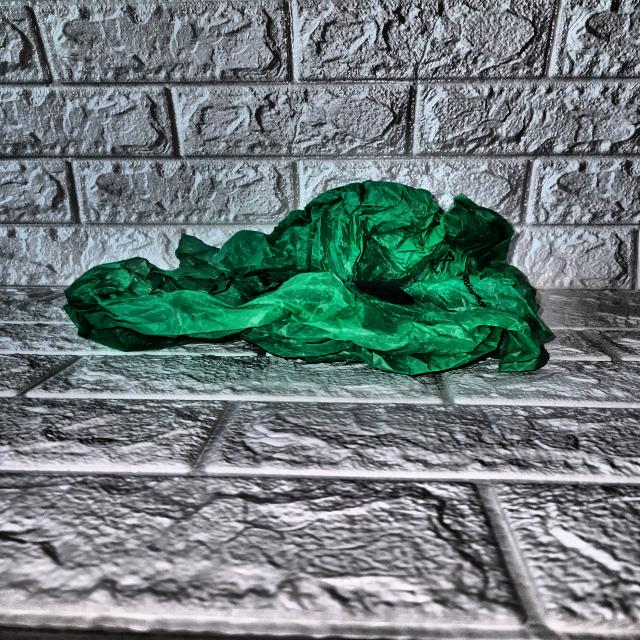plastic bag: (58, 180, 555, 382)
